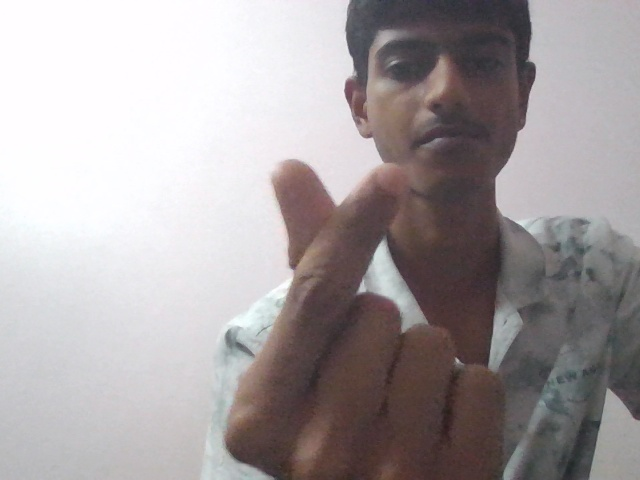iloveyou: (202, 150, 513, 480)
